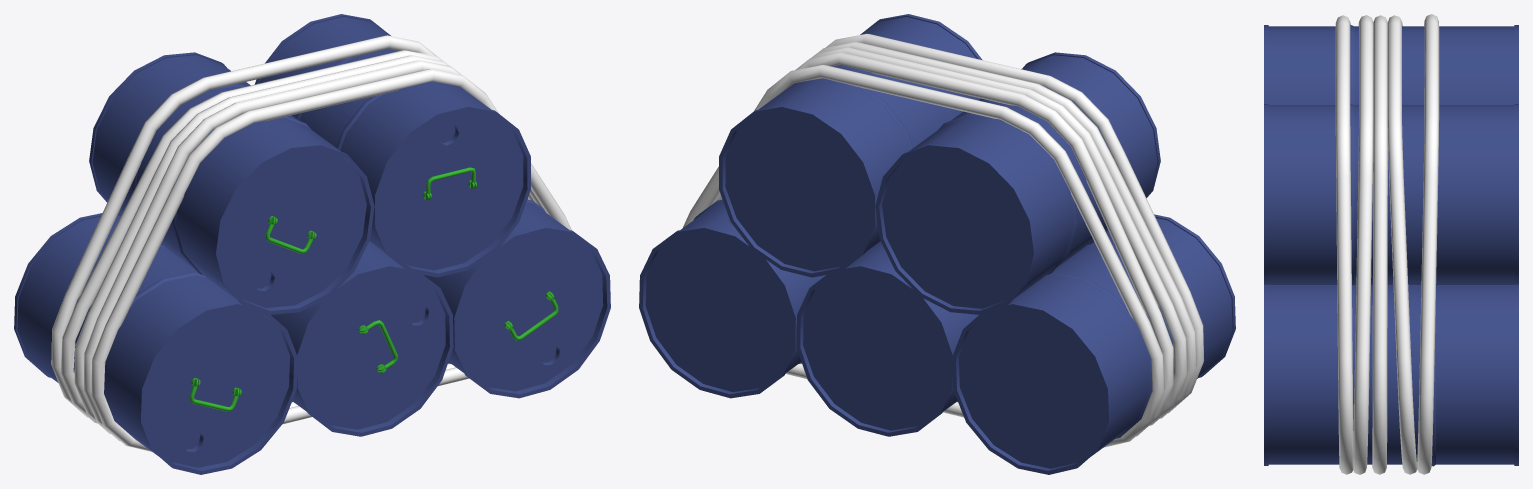
File: Oildrum5_Model.fbx
3 views of the same model, side by side, from view 1: azimuth 30°, elevation 25°; view 2: azimuth 150°, elevation 25°; view 3: azimuth 270°, elevation 25° (orthographic).
Parts seen in each view (by area): view 1: Oildrum_Mesh, Rope_Mesh; view 2: Oildrum_Mesh, Rope_Mesh; view 3: Oildrum_Mesh, Rope_Mesh.
Part boxes in pixels (x1,y1,x2,y2): Oildrum_Mesh: (14, 14, 610, 474); Rope_Mesh: (51, 35, 571, 452); Oildrum_Mesh: (639, 14, 1235, 474); Rope_Mesh: (682, 33, 1204, 447); Oildrum_Mesh: (1264, 24, 1518, 466); Rope_Mesh: (1335, 14, 1439, 474).
Bounding box in the file's own units: 233 × 148 × 105.
